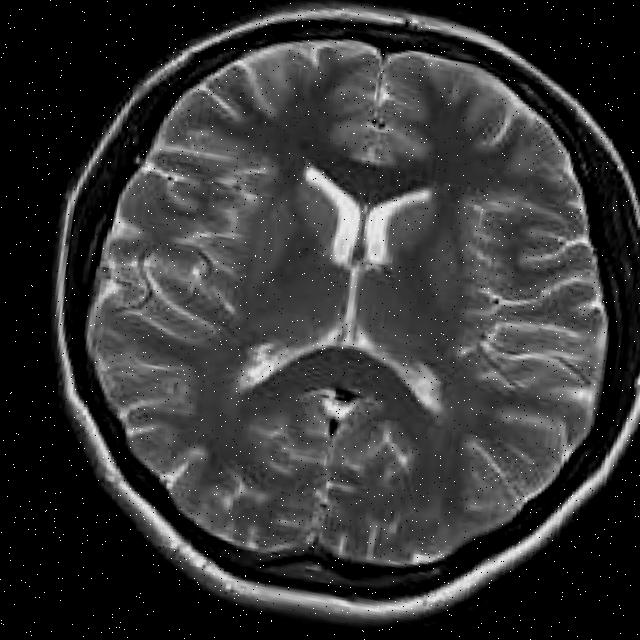NoTumor: (8, 0, 640, 636)
